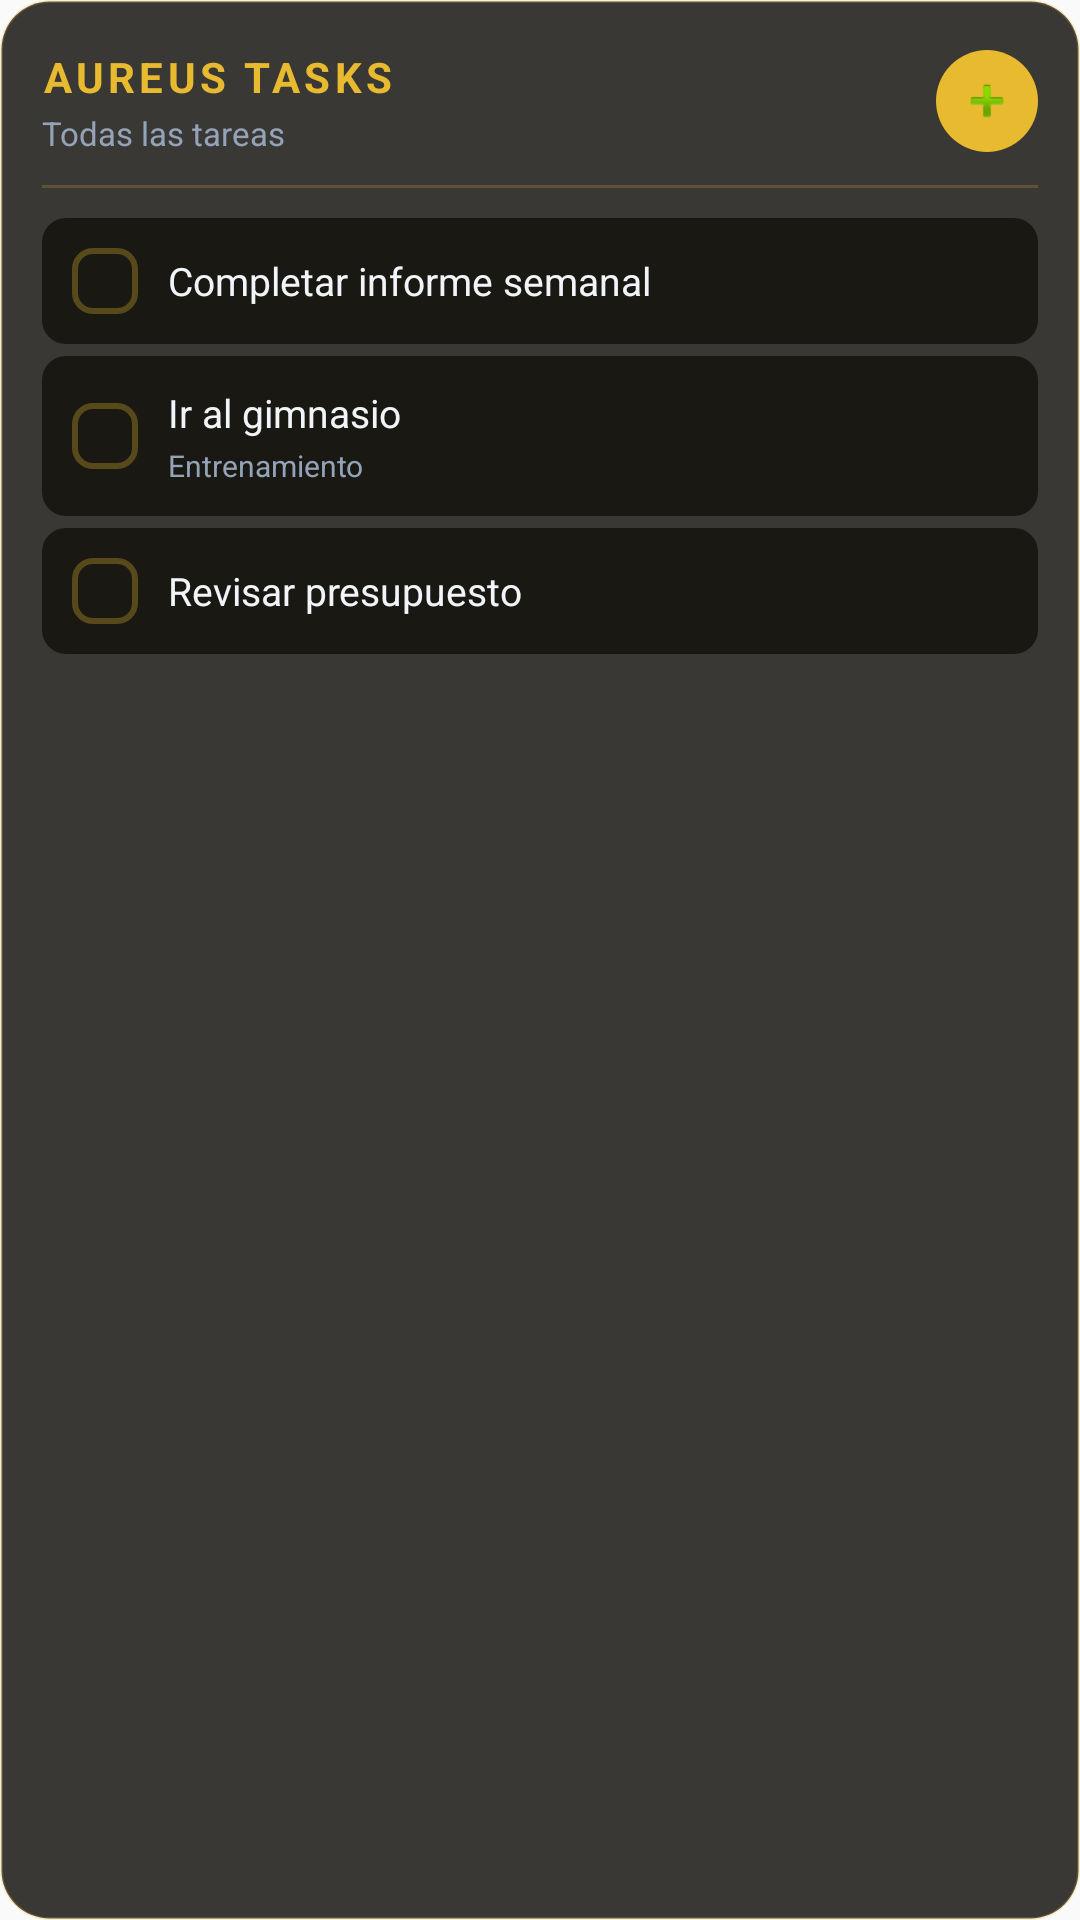

Where icons sit on this 1080*1920 app screen, as (x1, y1, x2, y2):
Agregar tarea: (936, 50, 1038, 152)
widget checkbox unchecked: (72, 248, 138, 314), (72, 403, 138, 469), (72, 558, 138, 624)
